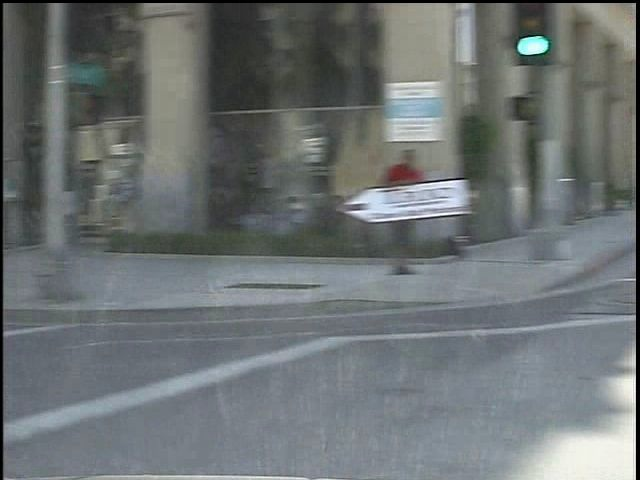person: (368, 141, 412, 281)
